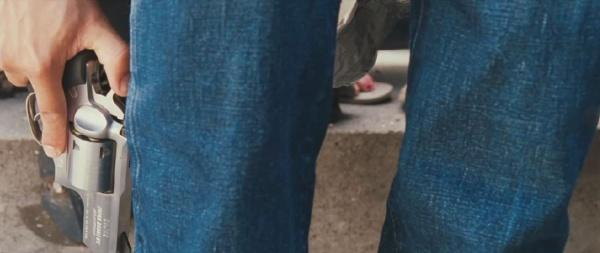Gun: (24, 47, 136, 253)
